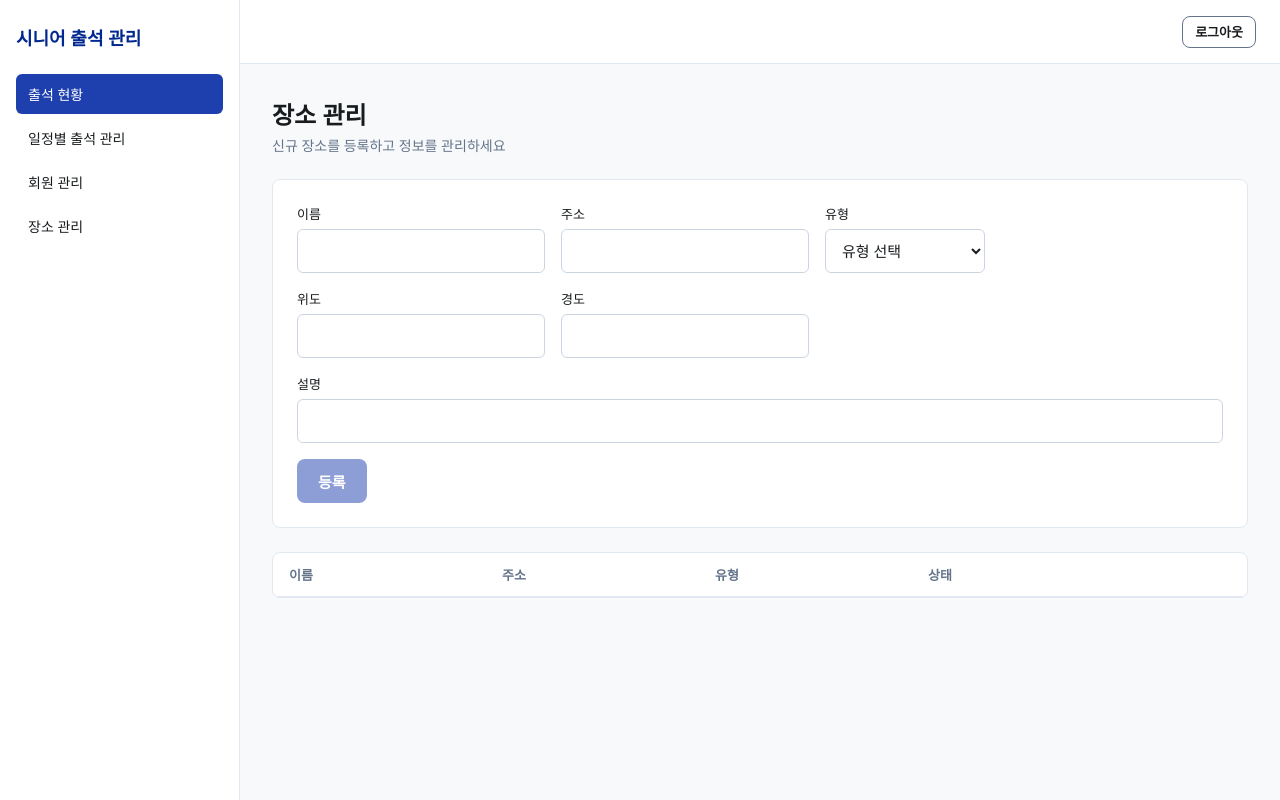
PlaceManagementPage › 등록 폼 제출 성공 시 목록에 반영한다
The image size is (1280, 800).
In the field labelled "이름": [421, 251] box [297, 229, 545, 273], type "새장소"
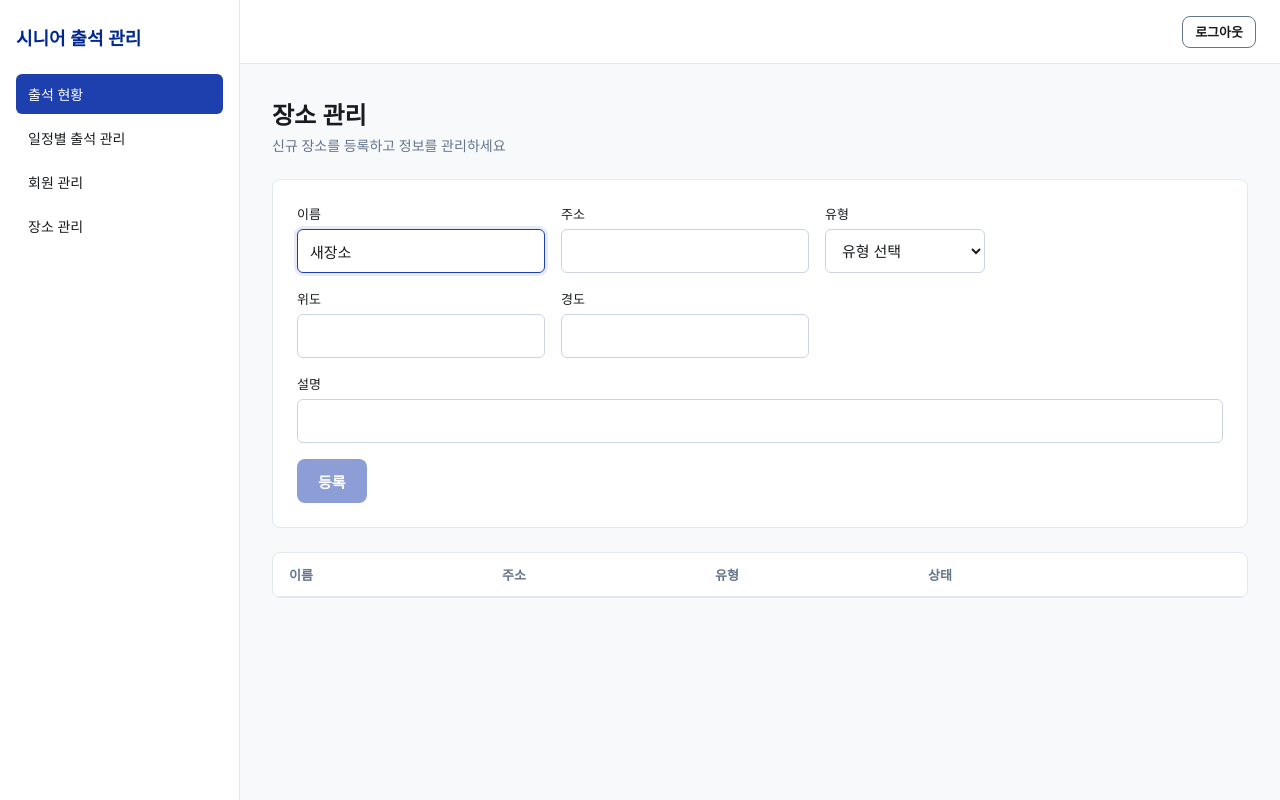
In the field labelled "주소": [685, 251] box [561, 229, 809, 273], type "부산시"
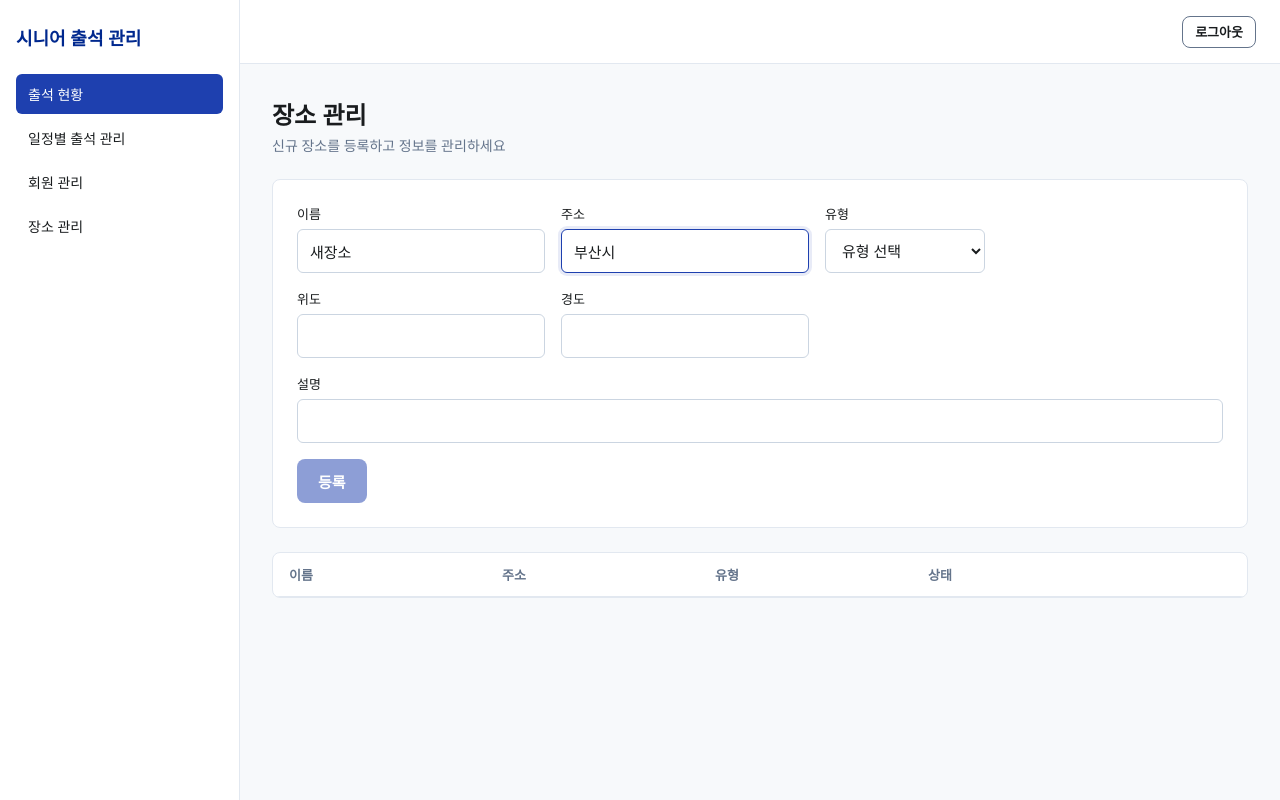
Select "시장형" in the dropdown labelled "유형": [905, 251] box [825, 229, 985, 273]
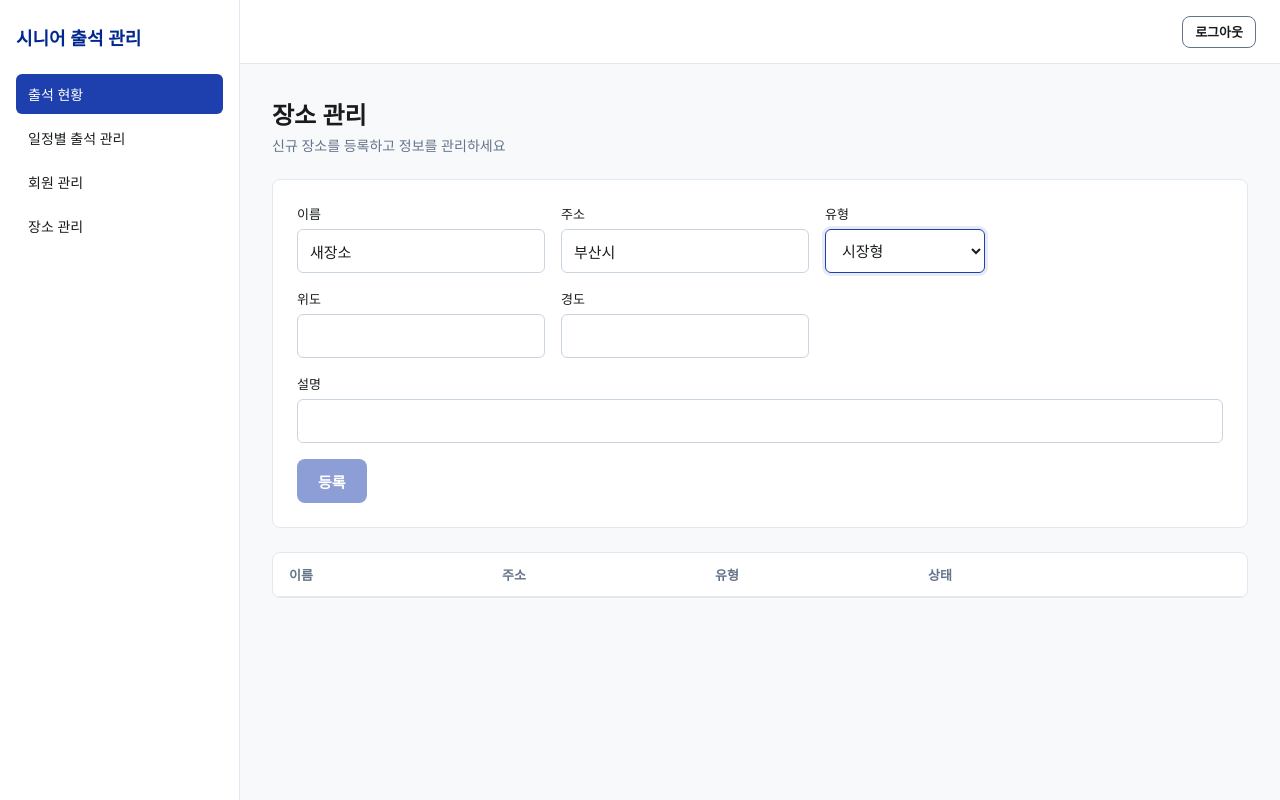
In the number field labelled "위도": [421, 336] box [297, 314, 545, 358], type "35.1"
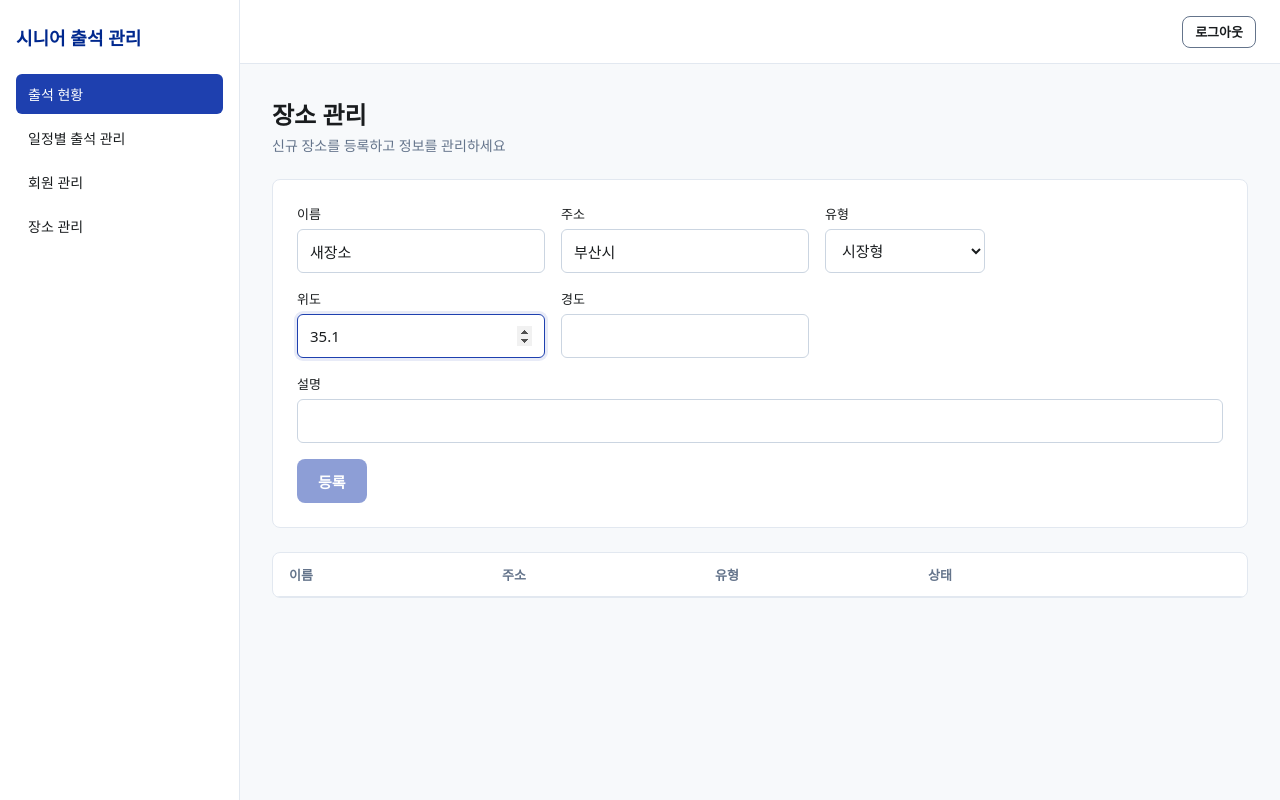
In the number field labelled "경도": [685, 336] box [561, 314, 809, 358], type "129.0"
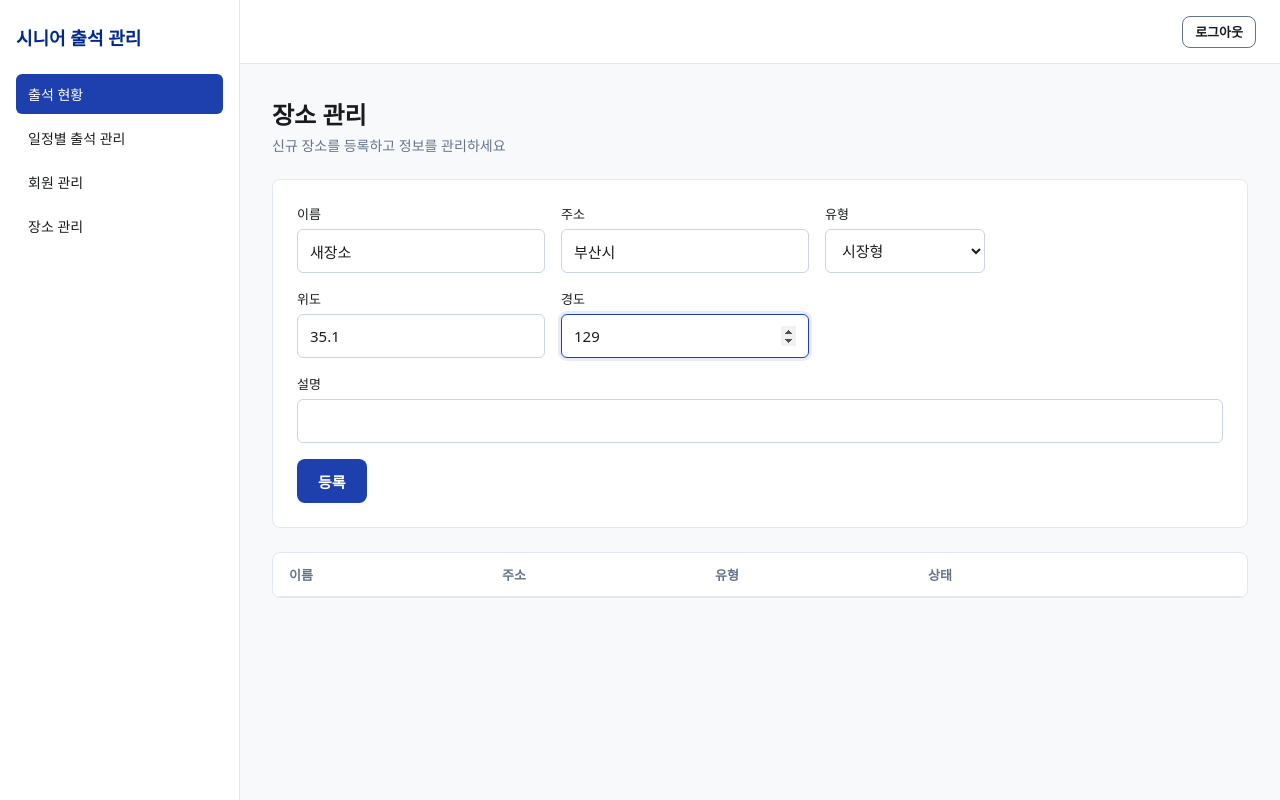
Click the button "등록": [332, 481] box [297, 459, 367, 503]
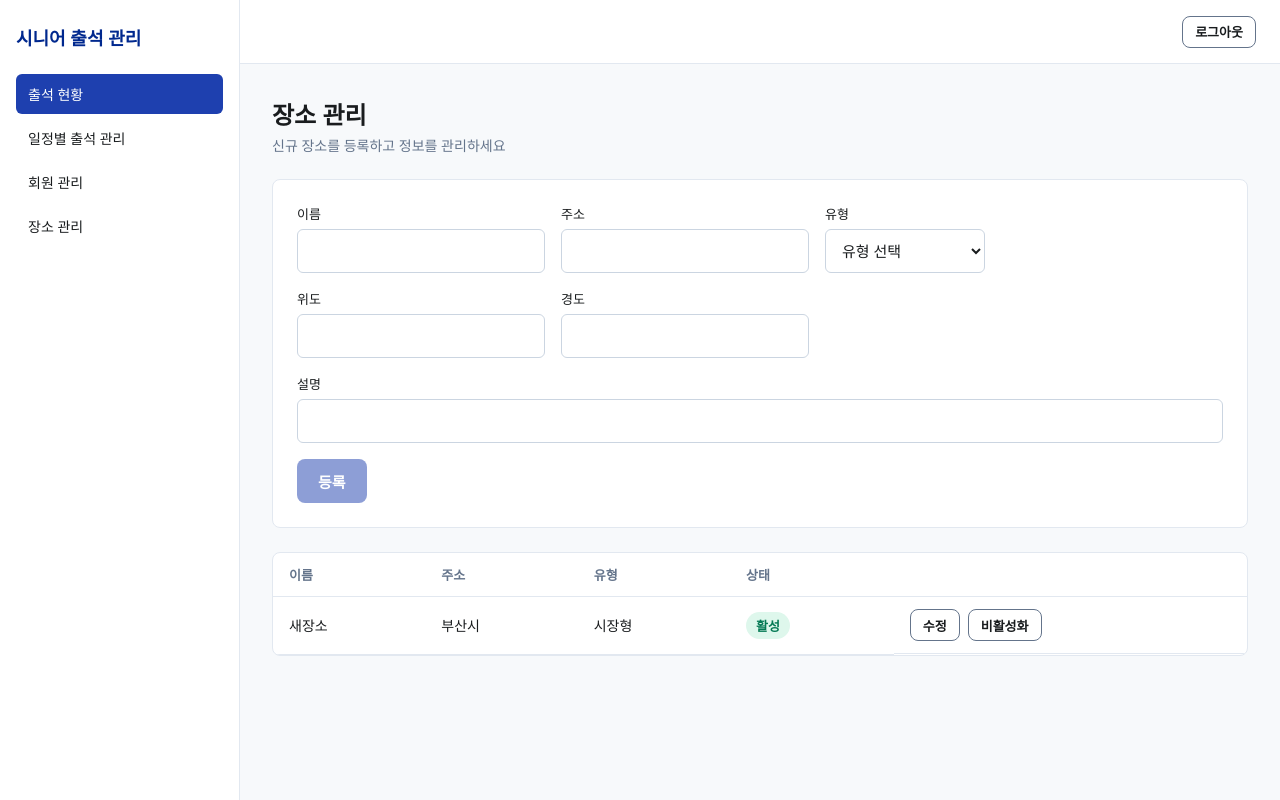
Result: the text "새장소" is shown at [273, 596, 425, 654]
